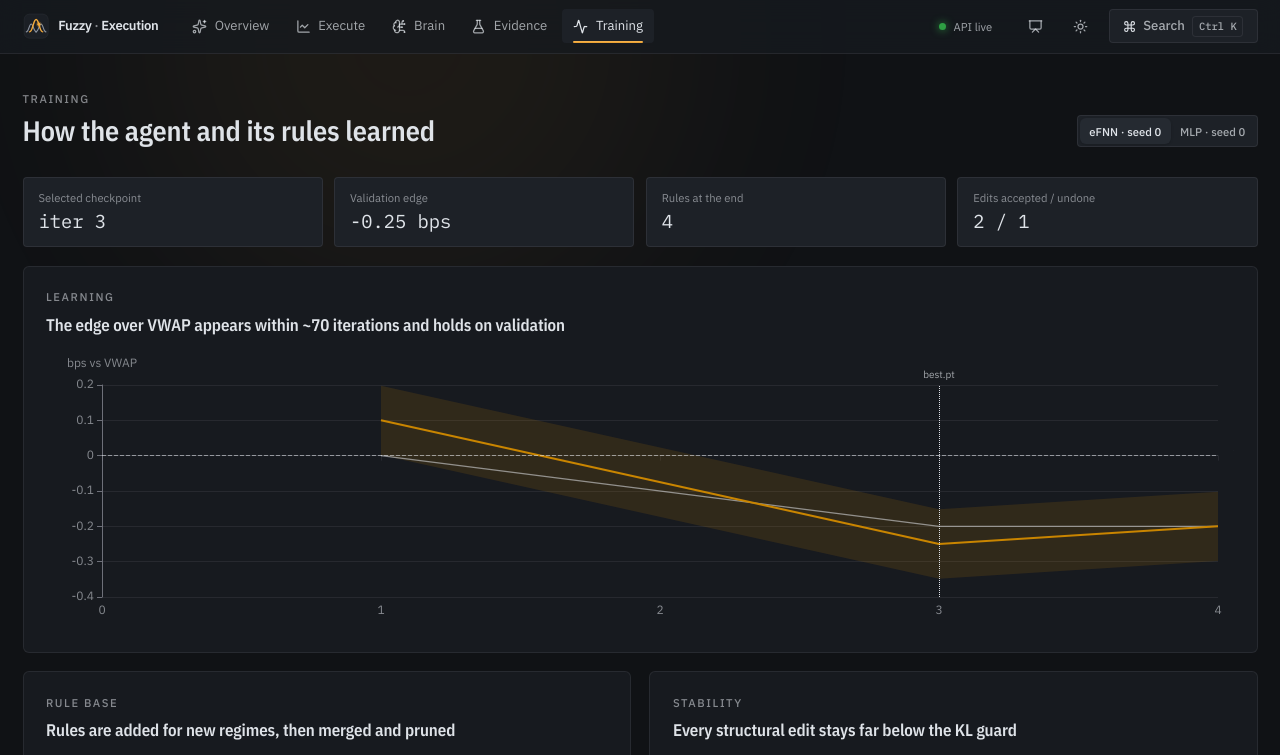
Test: Training shows the selected checkpoint and edits, and says an MLP has no rule base
Expected: the text "iter 3" is shown, [38,209,106,233]
Expected: the text "2 / 1" is shown, [973,209,1030,233]
Click the radio button labelled "MLP · seed 0": point(1213, 131) [1171,118,1255,144]
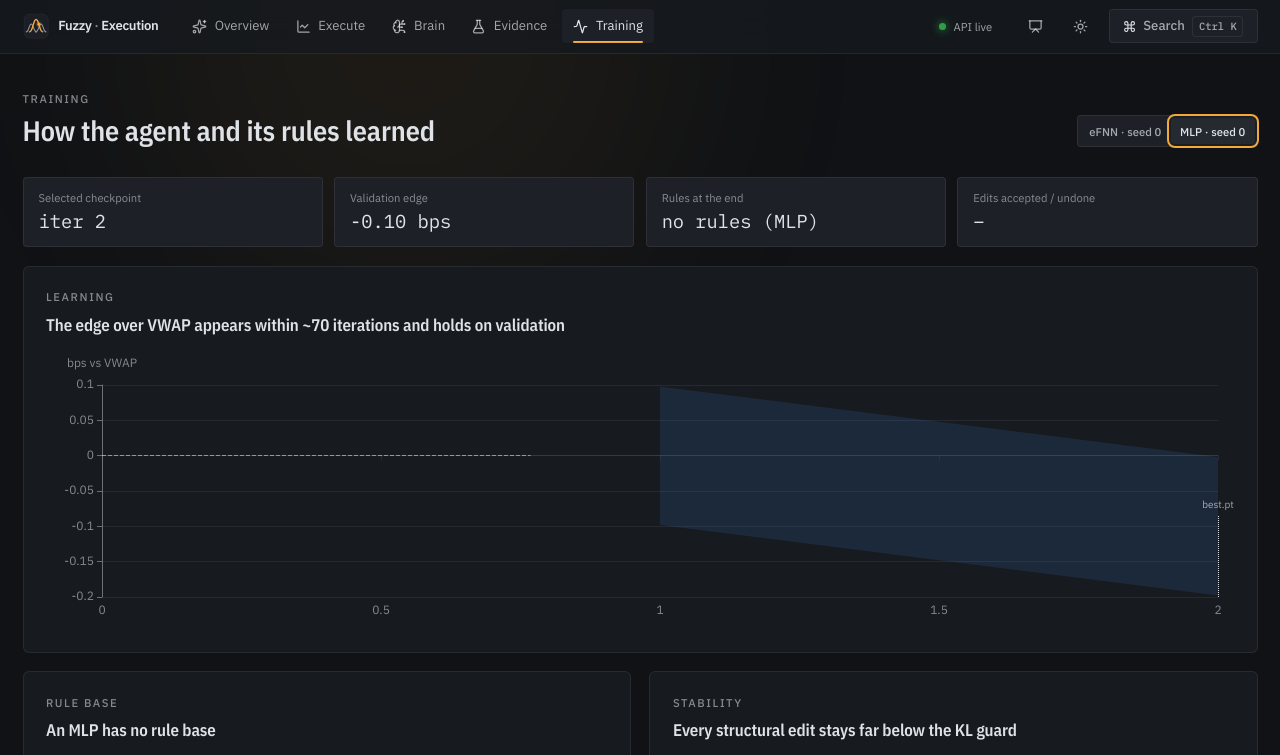
Expected: the heading "An MLP has no rule base" is shown, [46,719,216,741]
Expected: the text "no rules (MLP)" is shown, [662,209,819,233]
